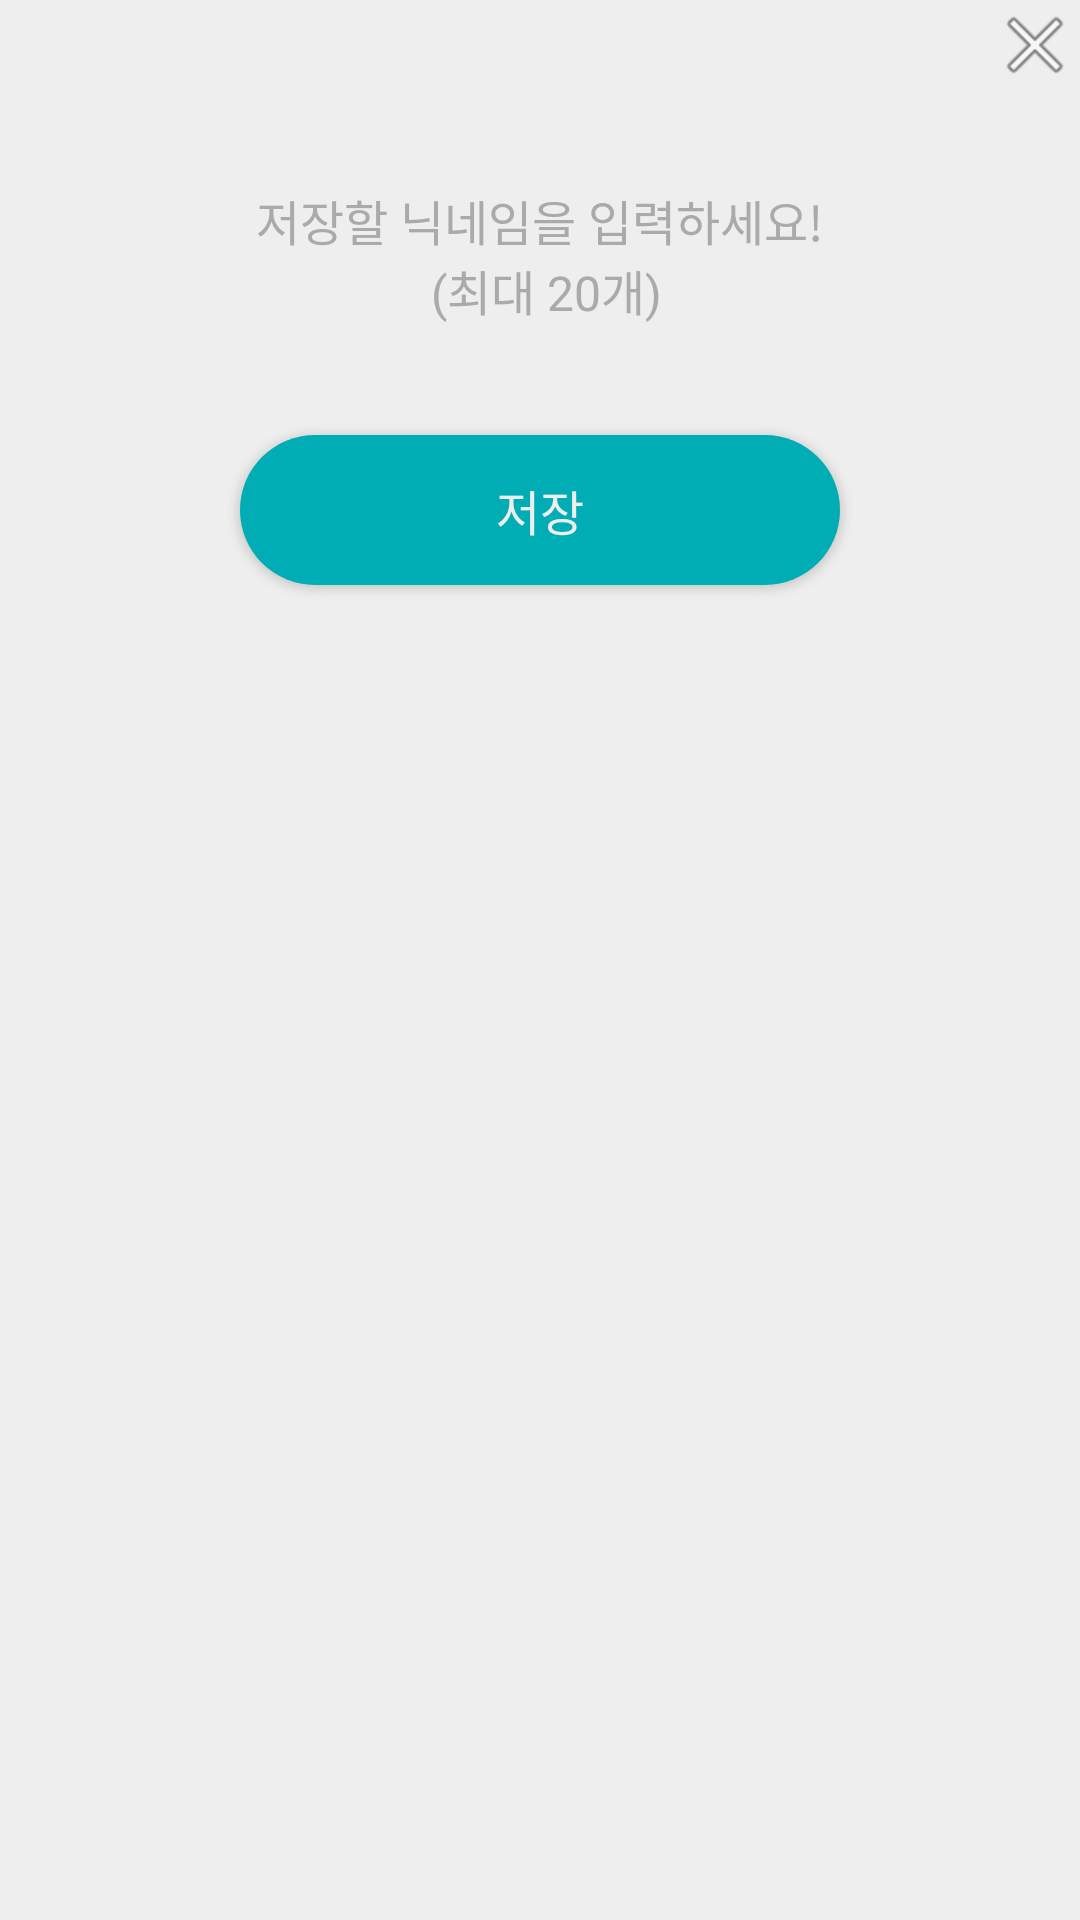

Point at icon controls on the screen. Image size 1080×1920, points as [x,y].
close clear cancel: [1035,45]
